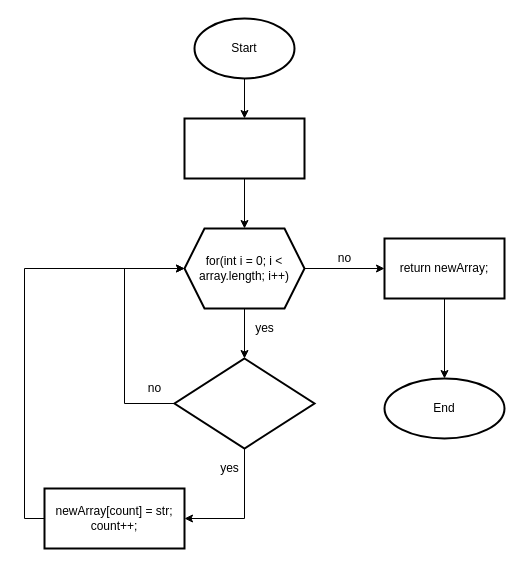
Some shapes in this 523 by 566 pixel diagram are drawn without their labels. The centre of each missing label's shape, as x and y in pixels:
"str = array[i]; if(str.Length <=3)" goes at (244,403).
"string[] array; string[] newArray; string str; int count = 0;" goes at (244,148).
